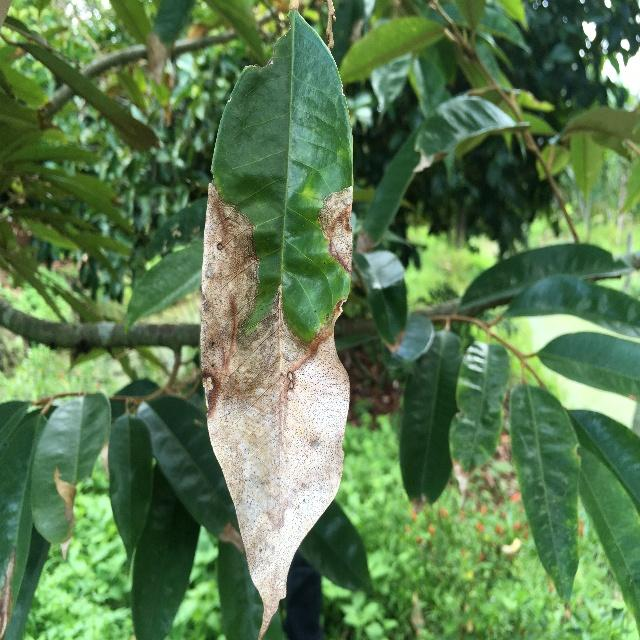Leaf Blight: (192, 0, 363, 640)
